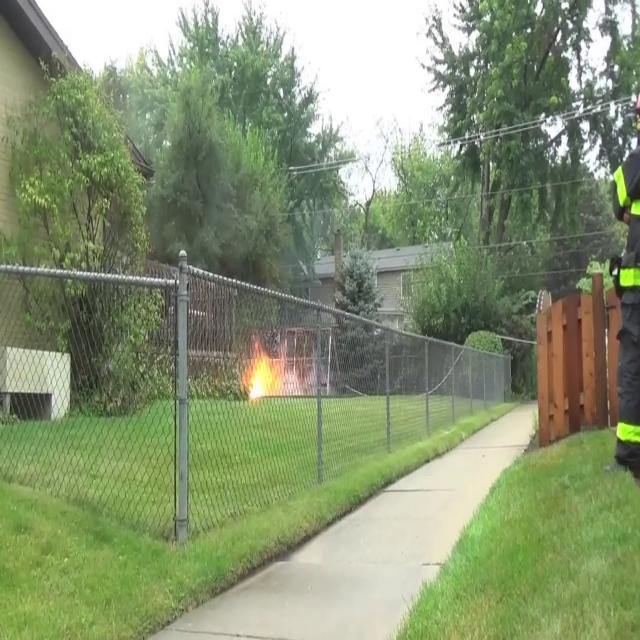Fire: (241, 340, 293, 406)
